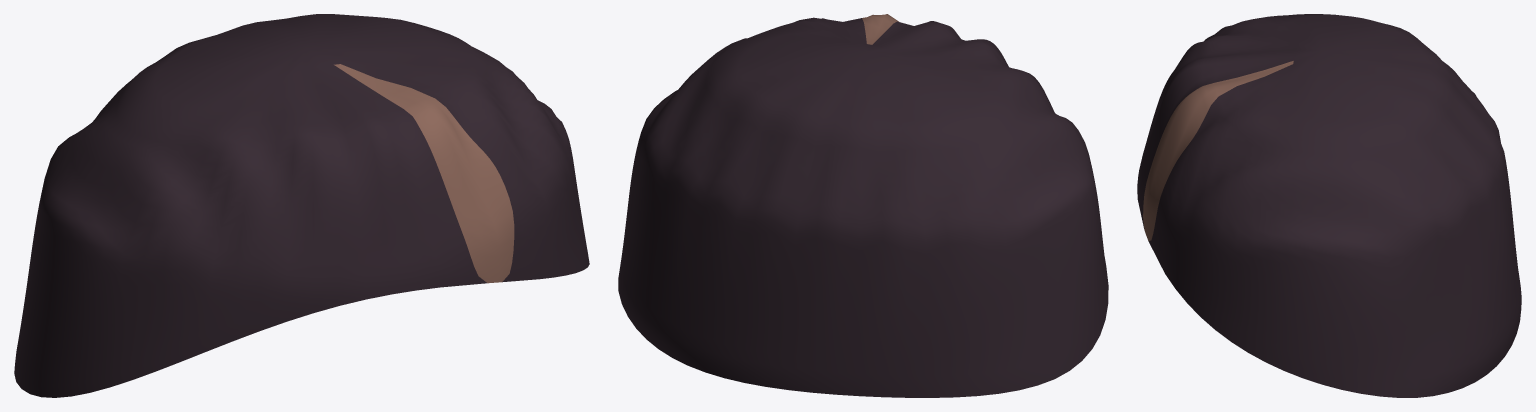
The model's file is studio_crop_default.glb.
3 views of the same model, side by side, from view 1: azimuth 30°, elevation 25°; view 2: azimuth 150°, elevation 25°; view 3: azimuth 270°, elevation 25° (orthographic). The views are drawn at different scales.
Visible parts, largest first — view 1: crop; view 2: crop; view 3: crop.
Part boxes in pixels (x1=…): crop: x1=14, y1=14, x2=589, y2=397; crop: x1=618, y1=14, x2=1108, y2=397; crop: x1=1137, y1=14, x2=1521, y2=397.
Size of the model in its own units: 0.474 by 0.2698 by 0.3552.
